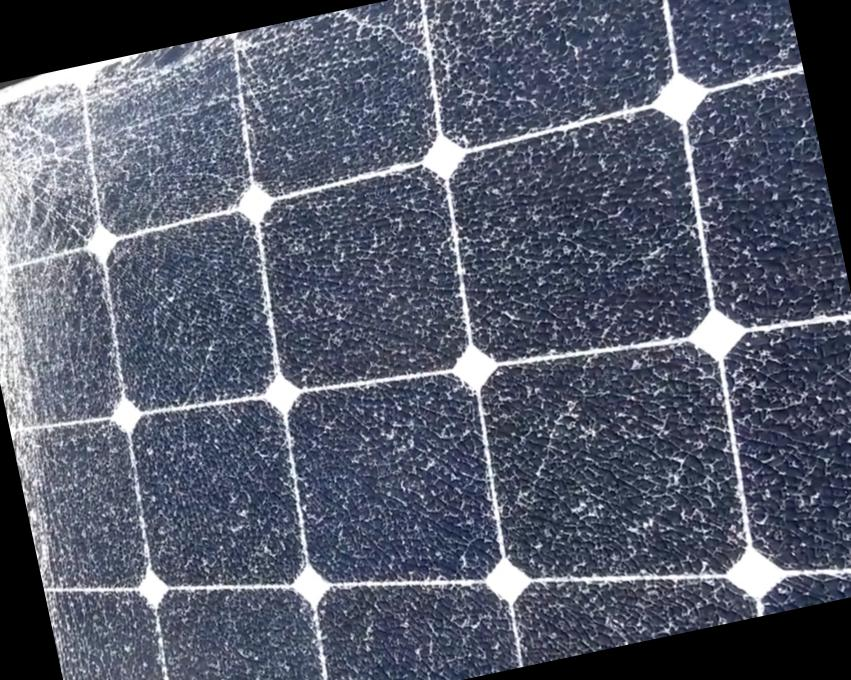Crack: (300, 0, 850, 665), (0, 78, 129, 294), (0, 282, 148, 454)
